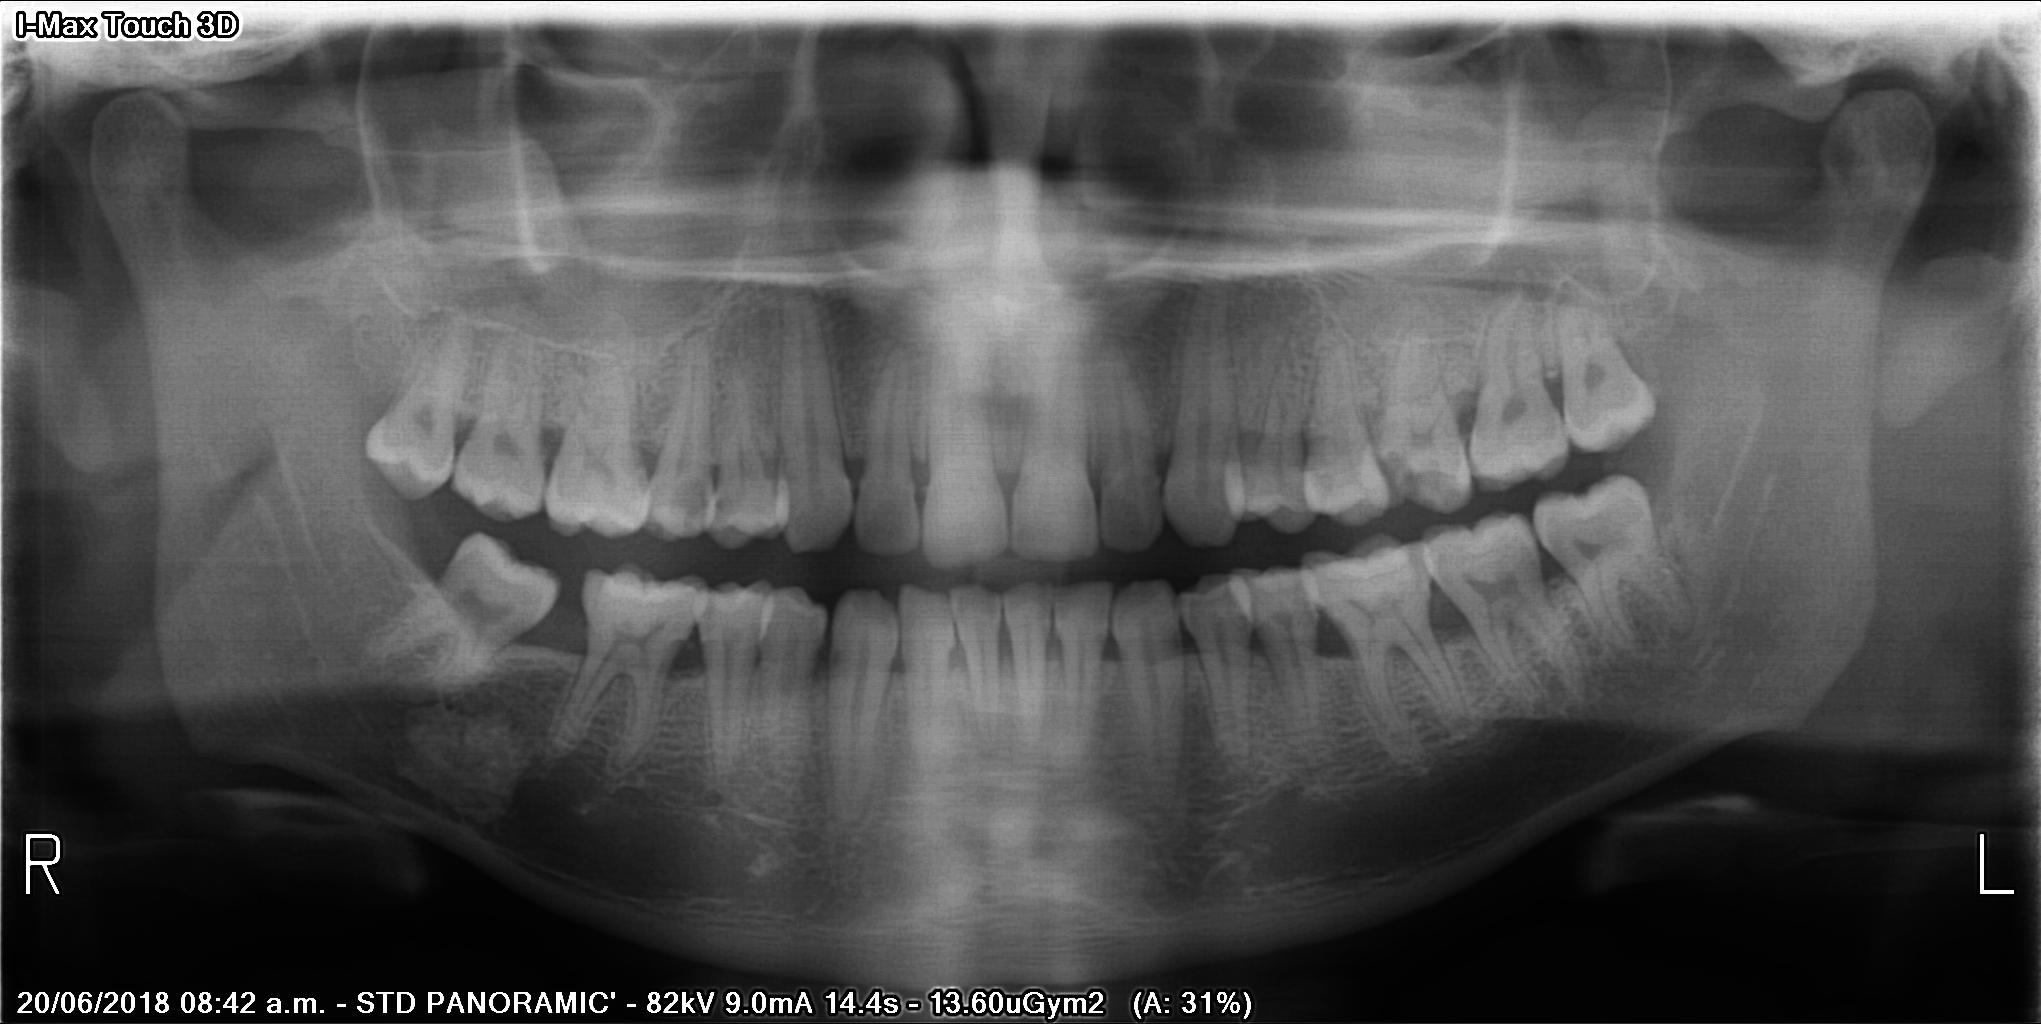Çürük Bölgesi: (666, 481, 717, 528), (1378, 451, 1414, 509)
